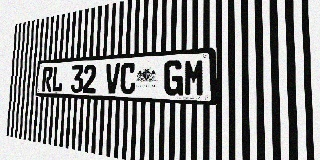2: (83, 64, 97, 93)
3: (71, 65, 84, 93)
C: (120, 62, 136, 94)
G: (164, 60, 183, 96)
L: (52, 66, 64, 92)
M: (184, 59, 205, 97)
R: (42, 67, 53, 92)
V: (105, 63, 120, 94)
